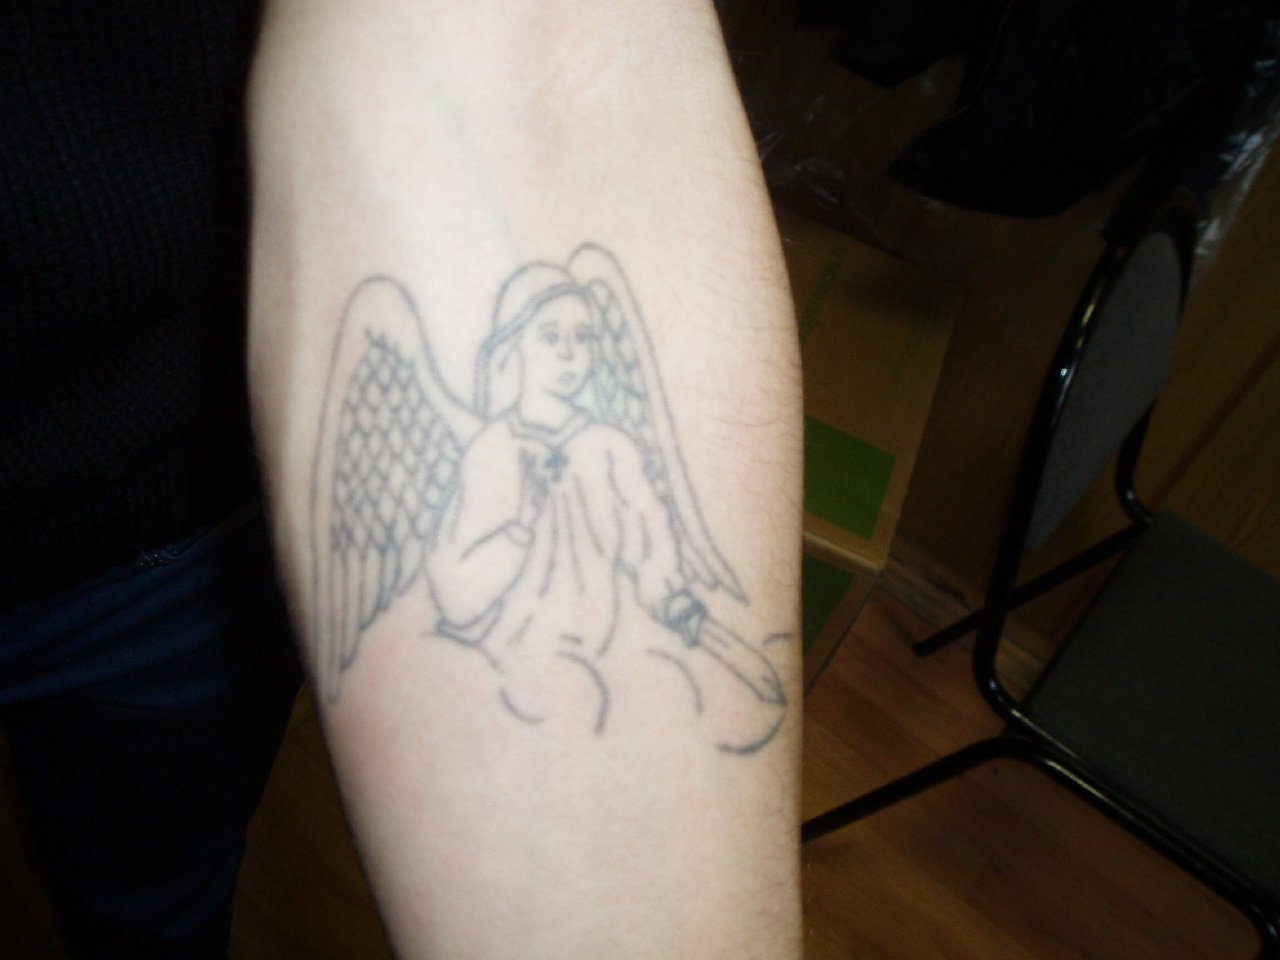tatu1_angel: (311, 237, 789, 751)
